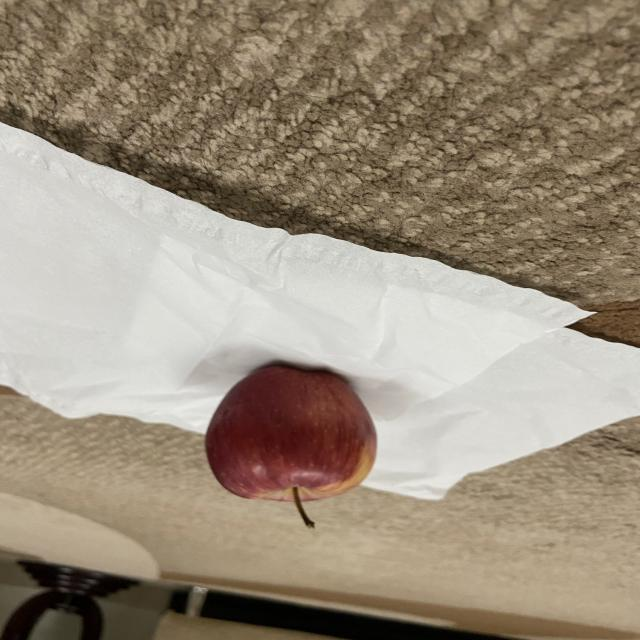apple: (204, 362, 379, 532)
